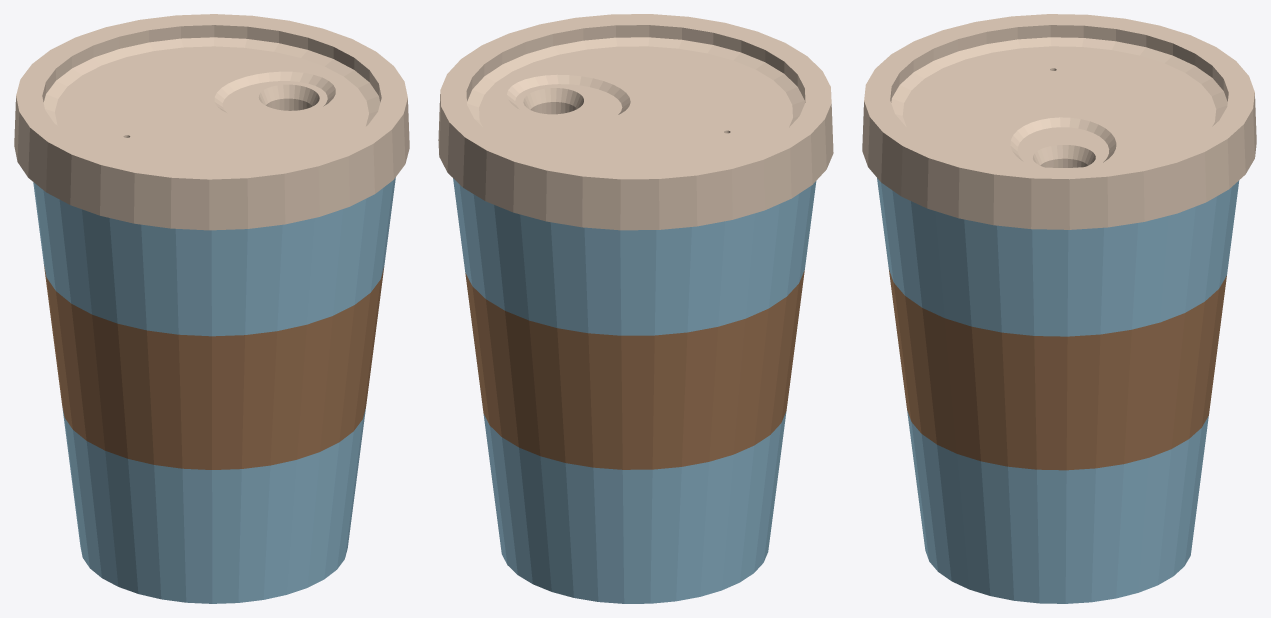
The model's file is Medium Coffee.fbx.
3 views of the same model, side by side, from view 1: azimuth 30°, elevation 25°; view 2: azimuth 150°, elevation 25°; view 3: azimuth 270°, elevation 25° (orthographic).
Parts seen in each view (by area): view 1: Medium Coffee; view 2: Medium Coffee; view 3: Medium Coffee.
Part boxes in pixels (x1=…): Medium Coffee: x1=14, y1=14, x2=409, y2=603; Medium Coffee: x1=438, y1=14, x2=833, y2=603; Medium Coffee: x1=862, y1=14, x2=1256, y2=603.
Size of the model in its own units: 19 by 23.92 by 19.
1 material, 1 textured.
